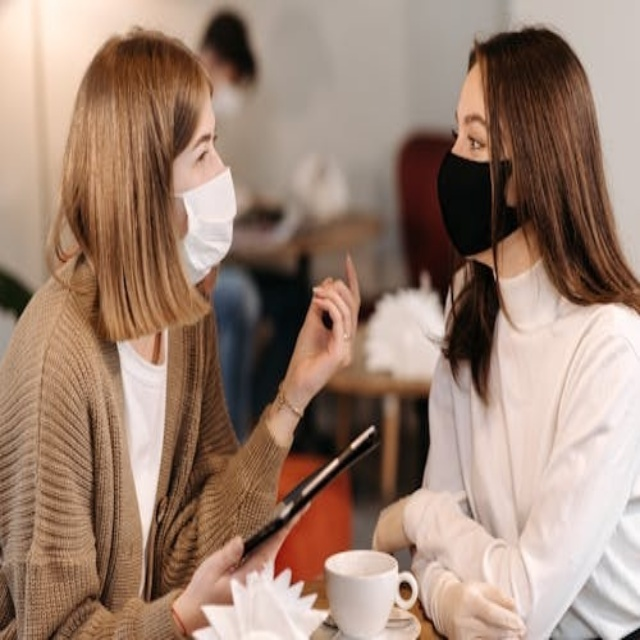Guantes: (400, 487, 492, 578), (426, 569, 525, 640)
Mascara: (434, 148, 532, 253), (169, 157, 238, 289)
Sin_gafas: (447, 103, 497, 155), (180, 119, 228, 163)
Sin_guantes: (284, 240, 369, 402), (173, 531, 258, 635)
